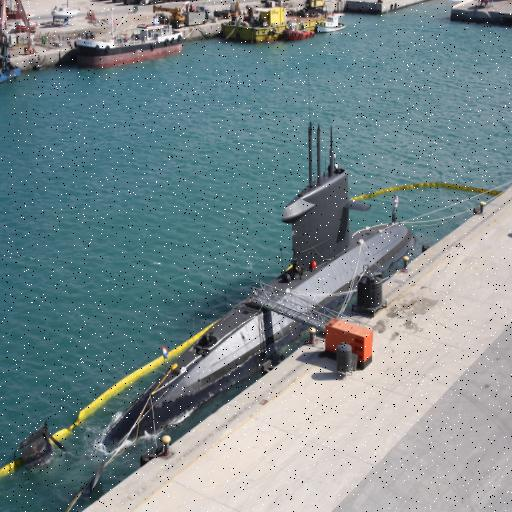submarine: (103, 124, 418, 457)
